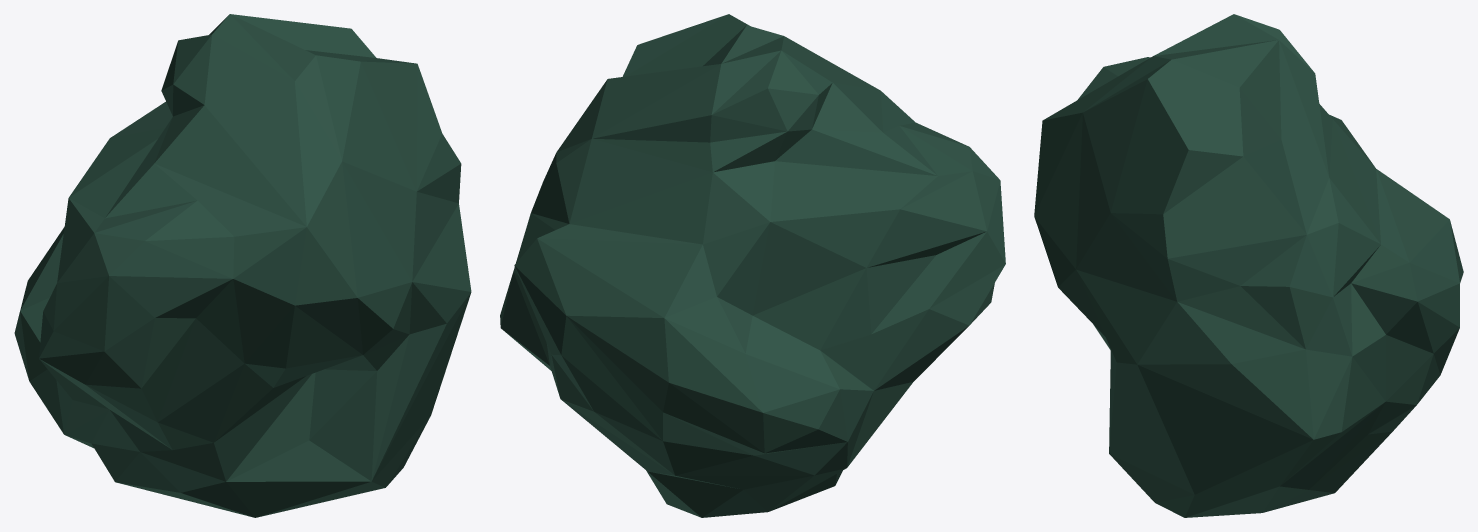
Rendered from SM_large_rock_51.fbx.
3 views of the same model, side by side, from view 1: azimuth 30°, elevation 25°; view 2: azimuth 150°, elevation 25°; view 3: azimuth 270°, elevation 25° (orthographic). The views are drawn at different scales.
Parts seen in each view (by area): view 1: large_rock_51; view 2: large_rock_51; view 3: large_rock_51.
Part boxes in pixels (left/top/right/bottom): large_rock_51: left=14, top=14, right=471, bottom=517; large_rock_51: left=500, top=14, right=1005, bottom=517; large_rock_51: left=1034, top=14, right=1463, bottom=517.
Bounding box in the file's own units: 84.38 × 86.44 × 71.4.
